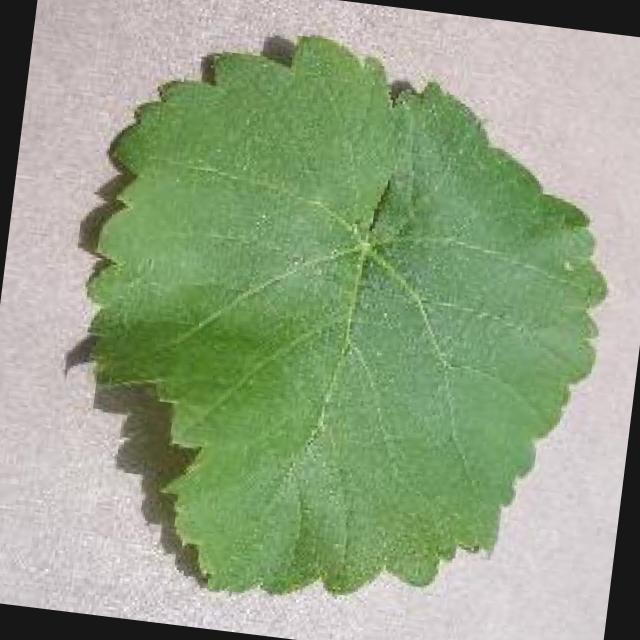healthy: (91, 39, 606, 595)
